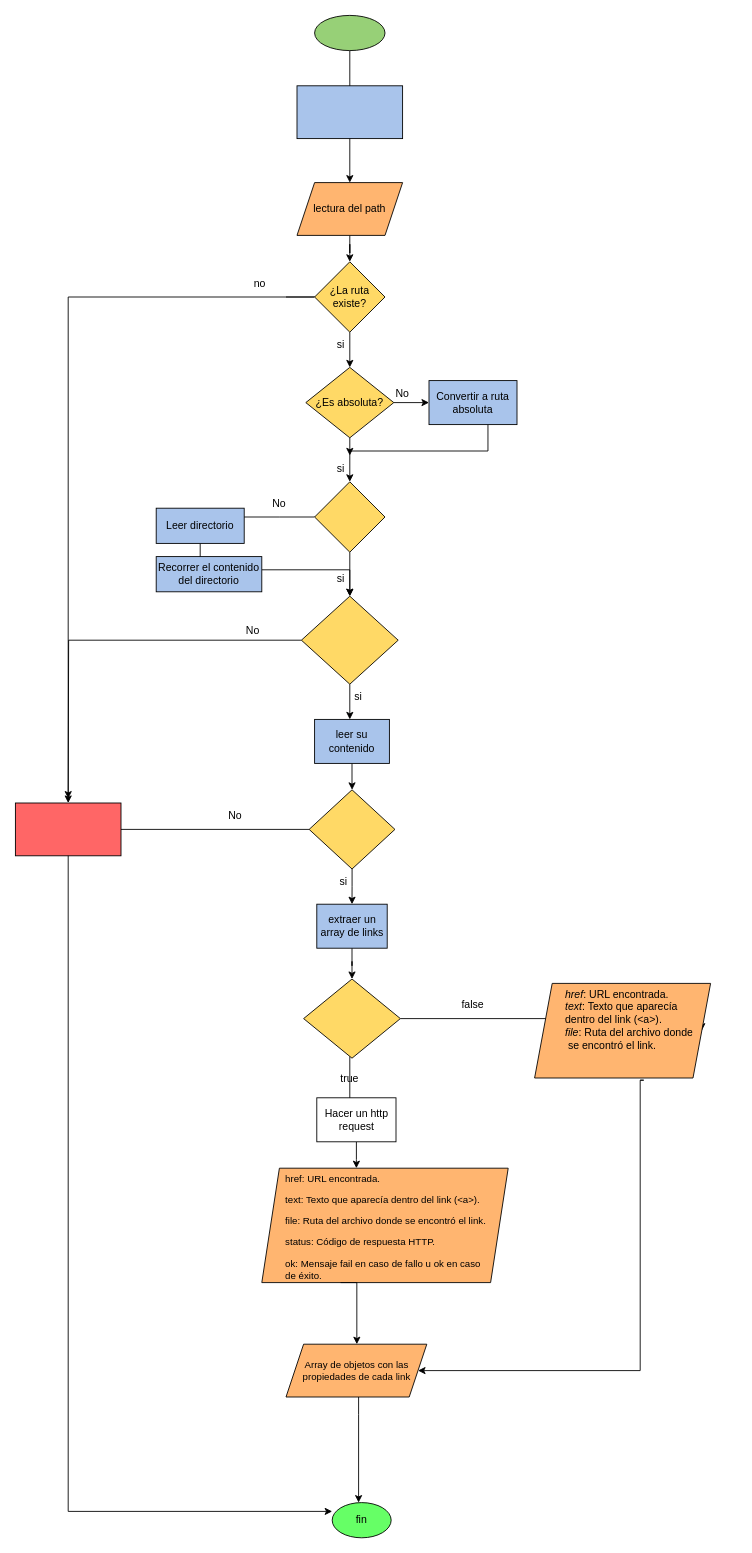
Some shapes in this 752 by 1553 pixel diagram are drawn without their labels. The centre of each missing label's shape, as x and y in pixels:
"Inicio" goes at (349,33).
"md-links(path, options)" goes at (349,112).
"Message Error: Ruta inválida" goes at (68,829).
"¿ validate ?" goes at (351,1018).
"¿El archivo contiene links?" goes at (351,829).
"¿Es un archivo?" goes at (349,516).
"¿Existe un archivo con extensión .md?" goes at (349,639).
